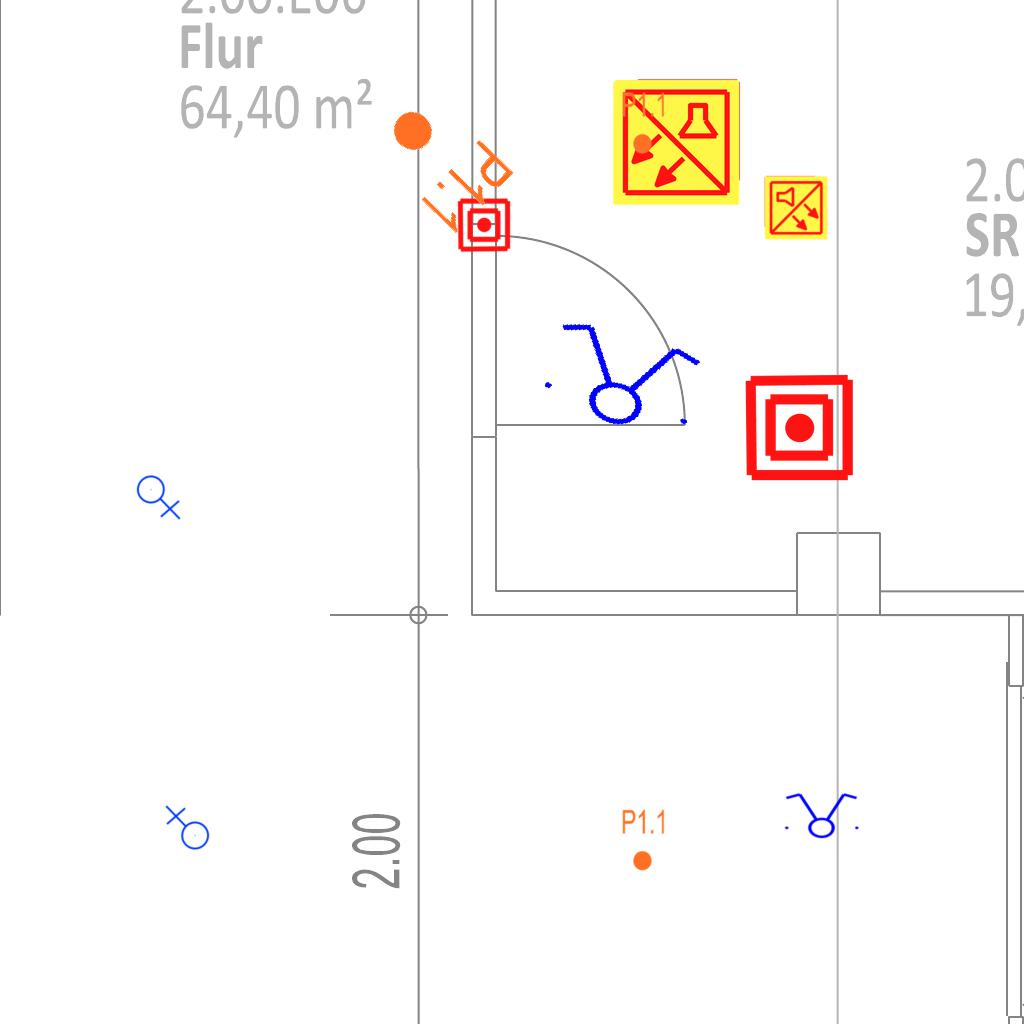Downlight_LED_Einbauleuchten_Flur: (362, 84, 519, 240), (621, 808, 667, 872), (621, 91, 667, 155)
Elektroanschluss_allgemein_230V_Geraeteanschlussdose_230V: (136, 471, 183, 520), (163, 805, 210, 854)
NAM-Nichtautomatischer_Melder: (743, 371, 856, 484), (456, 197, 512, 253)
OKW_Multisensormelder_(Kombination_optischer_Rauch-Kahlenmonoxid_Waerme-Melder): (610, 76, 742, 208), (763, 175, 829, 241)
Serienschalter: (527, 309, 715, 447), (779, 791, 863, 839)
